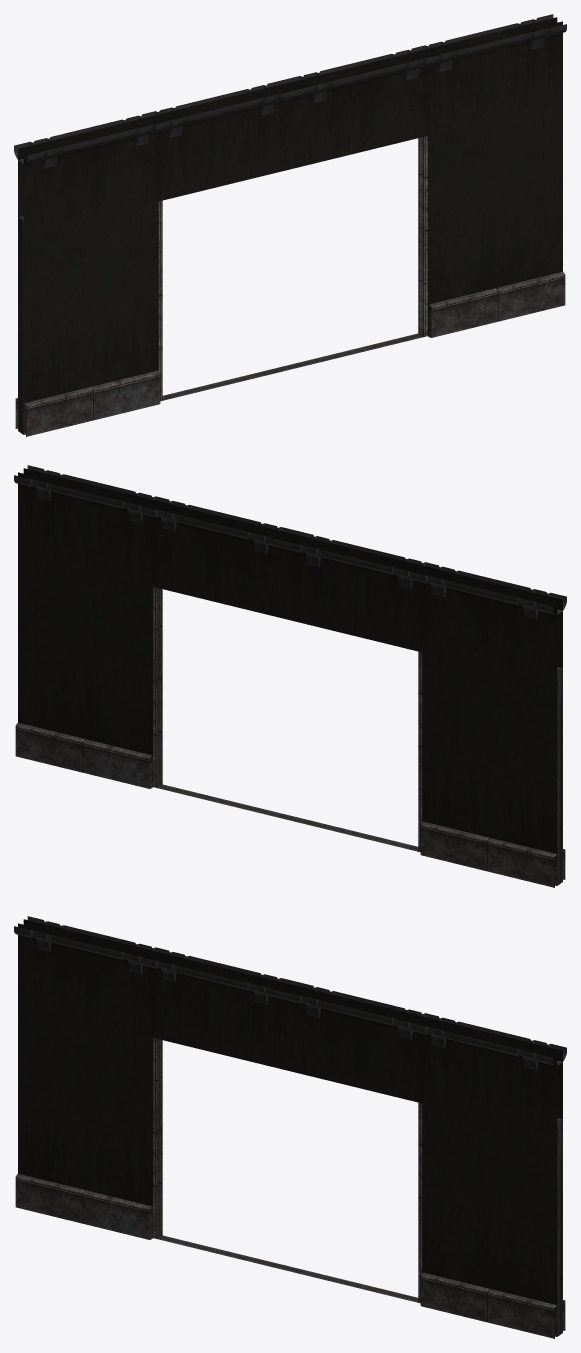
File: lab_flat_glass_doorway_double.dae
3 renders of one model, top to bottom at view 1: azimuth 30°, elevation 25°; view 2: azimuth 150°, elevation 25°; view 3: azimuth 330°, elevation 25°, orthographic.
Visible parts, largest first — view 1: glass__4_, lab_glas_doorway_double; view 2: glass__4_, lab_glas_doorway_double; view 3: glass__4_, lab_glas_doorway_double.
Boxes of the visible parts, x1,y1,x2,y2 form: glass__4_: (18,17,562,434); lab_glas_doorway_double: (14,14,566,436); glass__4_: (18,468,562,884); lab_glas_doorway_double: (14,465,566,887); glass__4_: (18,919,562,1335); lab_glas_doorway_double: (14,916,566,1338).
Size of the model in its own units: 8 by 4 by 0.3514.
